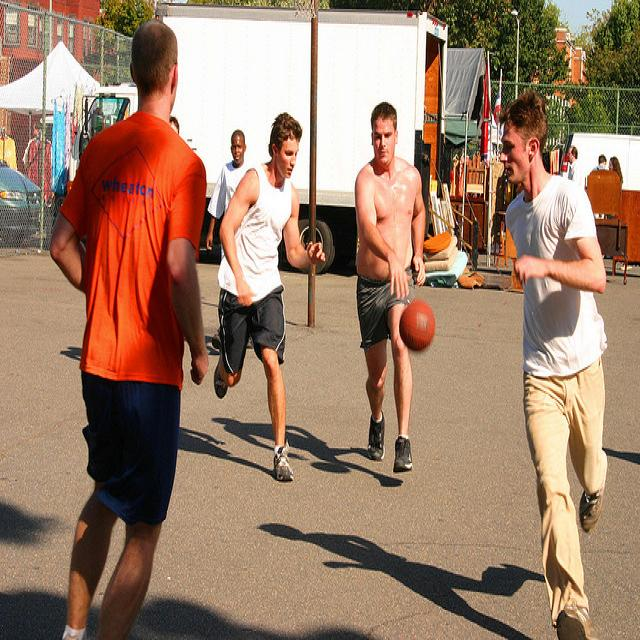Vehicle: (164, 7, 464, 289), (0, 167, 40, 248)
